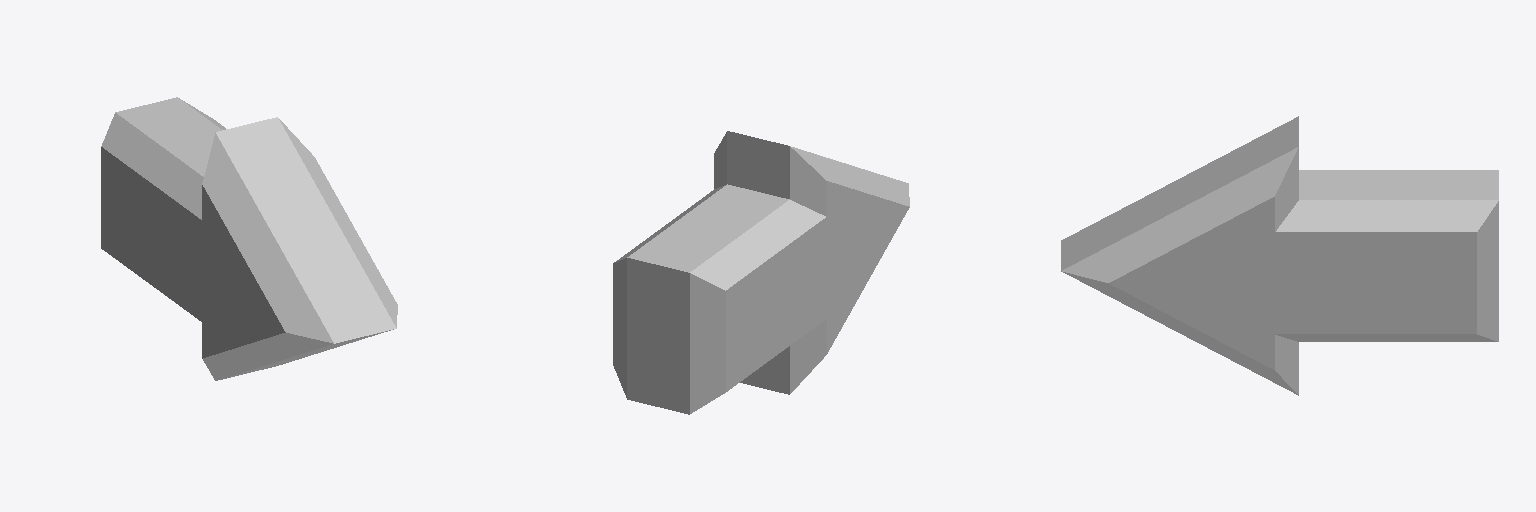
The model's file is arrow.obj.
3 renders of one model, left to right at view 1: azimuth 30°, elevation 25°; view 2: azimuth 150°, elevation 25°; view 3: azimuth 270°, elevation 25°, orthographic.
Visible parts, largest first — view 1: Arrow.002; view 2: Arrow.002; view 3: Arrow.002.
Boxes of the visible parts, x1,y1,x2,y2 form: Arrow.002: [101, 97, 397, 380]; Arrow.002: [613, 131, 909, 414]; Arrow.002: [1061, 116, 1498, 395].
Bounding box in the file's own units: 0.6 × 1.27 × 2.03.